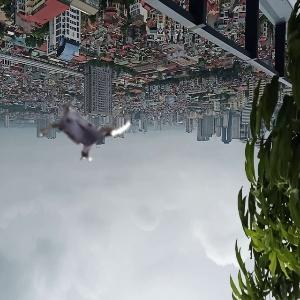drone: (38, 83, 130, 175)
